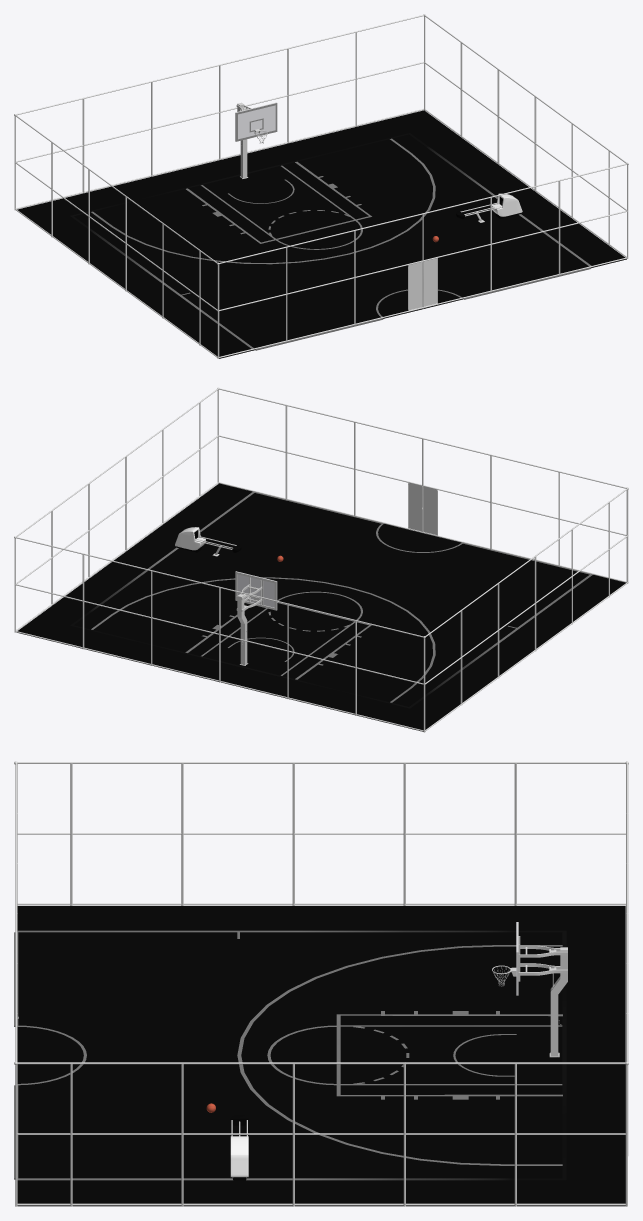
File: basketball_minigame.fbx
3 renders of one model, top to bottom at view 1: azimuth 30°, elevation 25°; view 2: azimuth 150°, elevation 25°; view 3: azimuth 270°, elevation 25°, orthographic. The views are drawn at different scales.
Parts seen in each view (by area): view 1: Plane.007, Cylinder.026, Cylinder.001, Cylinder.063, Cylinder.062, Cube.050, Cylinder.002, Cylinder.067, Cube.041, Circle.103, Ballspender, NurbsPath.025 (+3 smaller); view 2: Plane.007, Cylinder.026, Cylinder.063, Cylinder.001, Cylinder.062, Cube.050, Cylinder.002, Cylinder.067, Circle.103, Ballspender, Cube.041, NurbsPath.026 (+4 smaller); view 3: Plane.007, Cylinder.026, Cylinder.062, Cube.050, Circle.103, Circle.105, Cube.047, Ballspender, Cube.034, Cylinder.002, Cylinder.067.
Part boxes in pixels (x1,y1,x2,y2): Plane.007: [17, 110, 626, 358]; Cylinder.026: [14, 15, 626, 358]; Cylinder.001: [219, 163, 627, 357]; Cylinder.063: [16, 15, 423, 209]; Cylinder.062: [51, 16, 609, 345]; Cube.050: [70, 133, 591, 348]; Cylinder.002: [217, 165, 628, 358]; Cylinder.067: [14, 32, 356, 208]; Cube.041: [235, 103, 275, 141]; Circle.103: [91, 138, 435, 264]; Ballspender: [456, 193, 522, 222]; NurbsPath.025: [423, 258, 437, 307]; Plane.007: [17, 483, 625, 731]; Cylinder.026: [16, 388, 628, 731]; Cylinder.063: [15, 537, 423, 731]; Cylinder.001: [218, 388, 626, 582]; Cylinder.062: [14, 403, 609, 705]; Cube.050: [70, 492, 592, 708]; Cylinder.002: [217, 389, 628, 583]; Cylinder.067: [82, 554, 425, 732]; Circle.103: [91, 577, 435, 702]; Ballspender: [175, 527, 241, 556]; Cube.041: [236, 571, 277, 609]; NurbsPath.026: [422, 486, 437, 535]; Plane.007: [17, 906, 625, 1206]; Cylinder.026: [17, 762, 625, 1205]; Cylinder.062: [70, 763, 627, 1206]; Cube.050: [17, 930, 566, 1180]; Circle.103: [237, 945, 562, 1165]; Circle.105: [267, 1025, 562, 1085]; Cube.047: [336, 1014, 562, 1096]; Ballspender: [230, 1115, 248, 1180]; Cube.034: [549, 947, 567, 1057]; Cylinder.002: [15, 764, 17, 1206]; Cylinder.067: [626, 765, 628, 1155].
Size of the model in its own units: 1817 by 426 by 1564.
